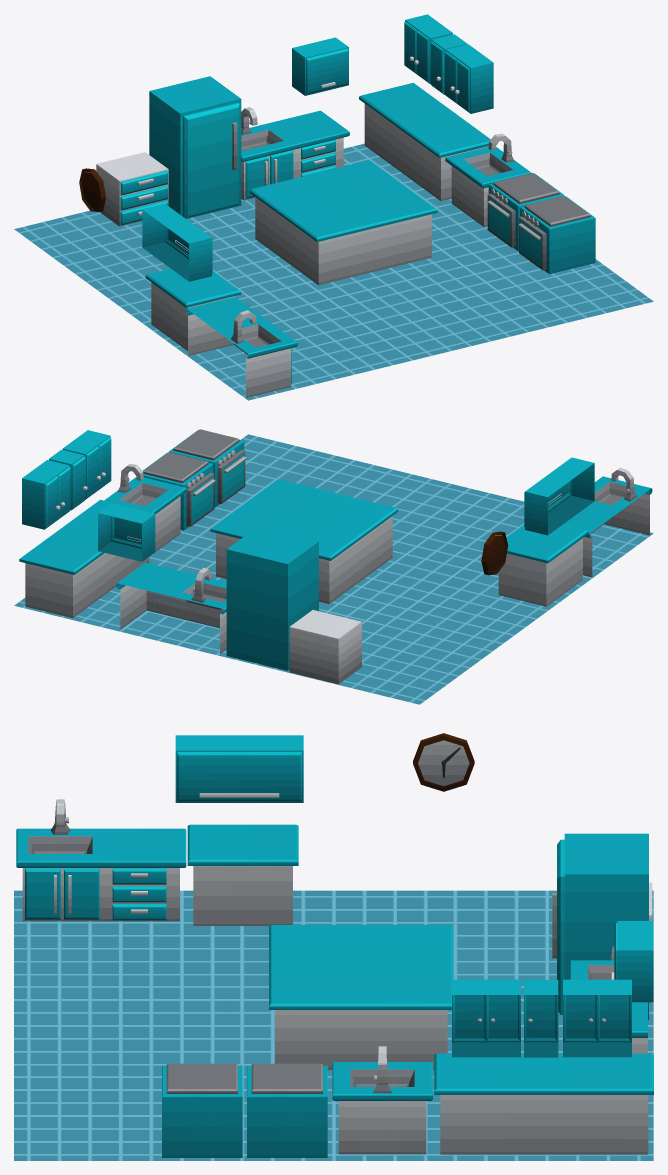
File: s1_Kitchen_v2.fbx
3 renders of one model, top to bottom at view 1: azimuth 30°, elevation 25°; view 2: azimuth 150°, elevation 25°; view 3: azimuth 270°, elevation 25°, orthographic. The views are drawn at different scales.
Parts seen in each view (by area): view 1: s1_Kitchen_v2; view 2: s1_Kitchen_v2; view 3: s1_Kitchen_v2.
Part boxes in pixels (<box>): s1_Kitchen_v2: <box>14,14,653,400</box>; s1_Kitchen_v2: <box>14,429,653,704</box>; s1_Kitchen_v2: <box>14,733,653,1160</box>.
Bounding box in the file's own units: 901 × 258 × 900.
